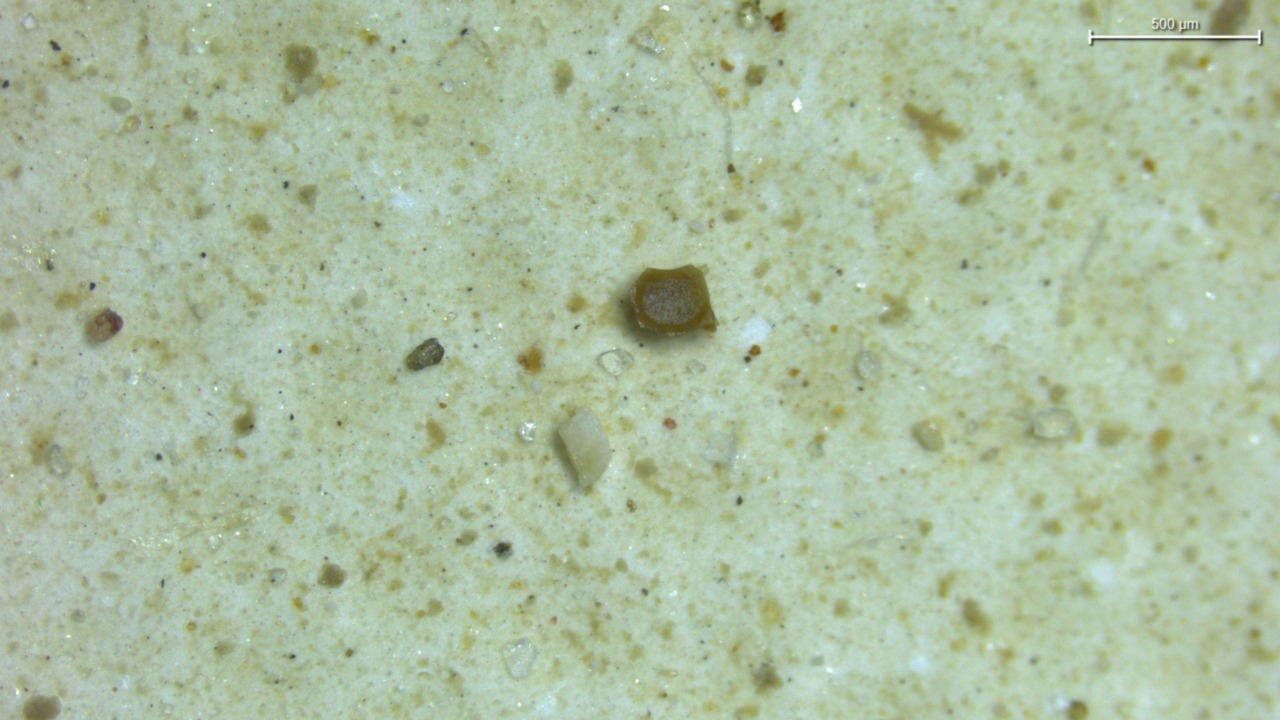microplastic_fragment: (633, 265, 716, 332), (558, 407, 612, 487), (1031, 408, 1078, 440), (597, 348, 634, 377), (913, 420, 944, 451), (855, 350, 881, 380)
